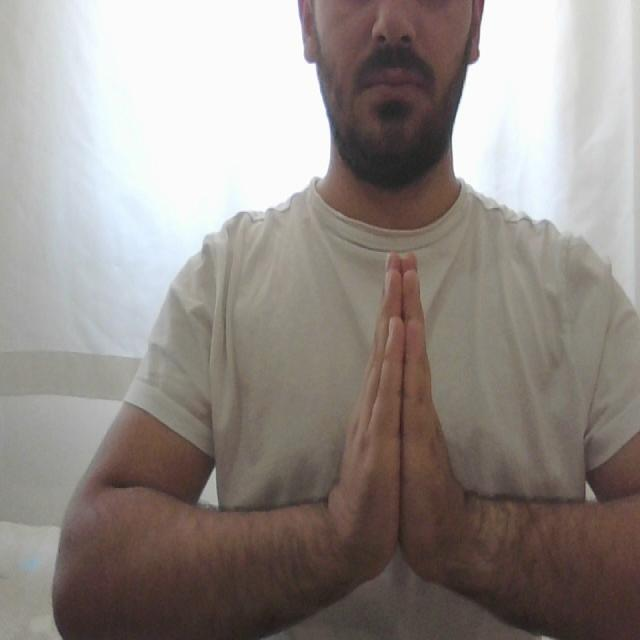Ozur-Dilemek: (328, 243, 474, 598)
